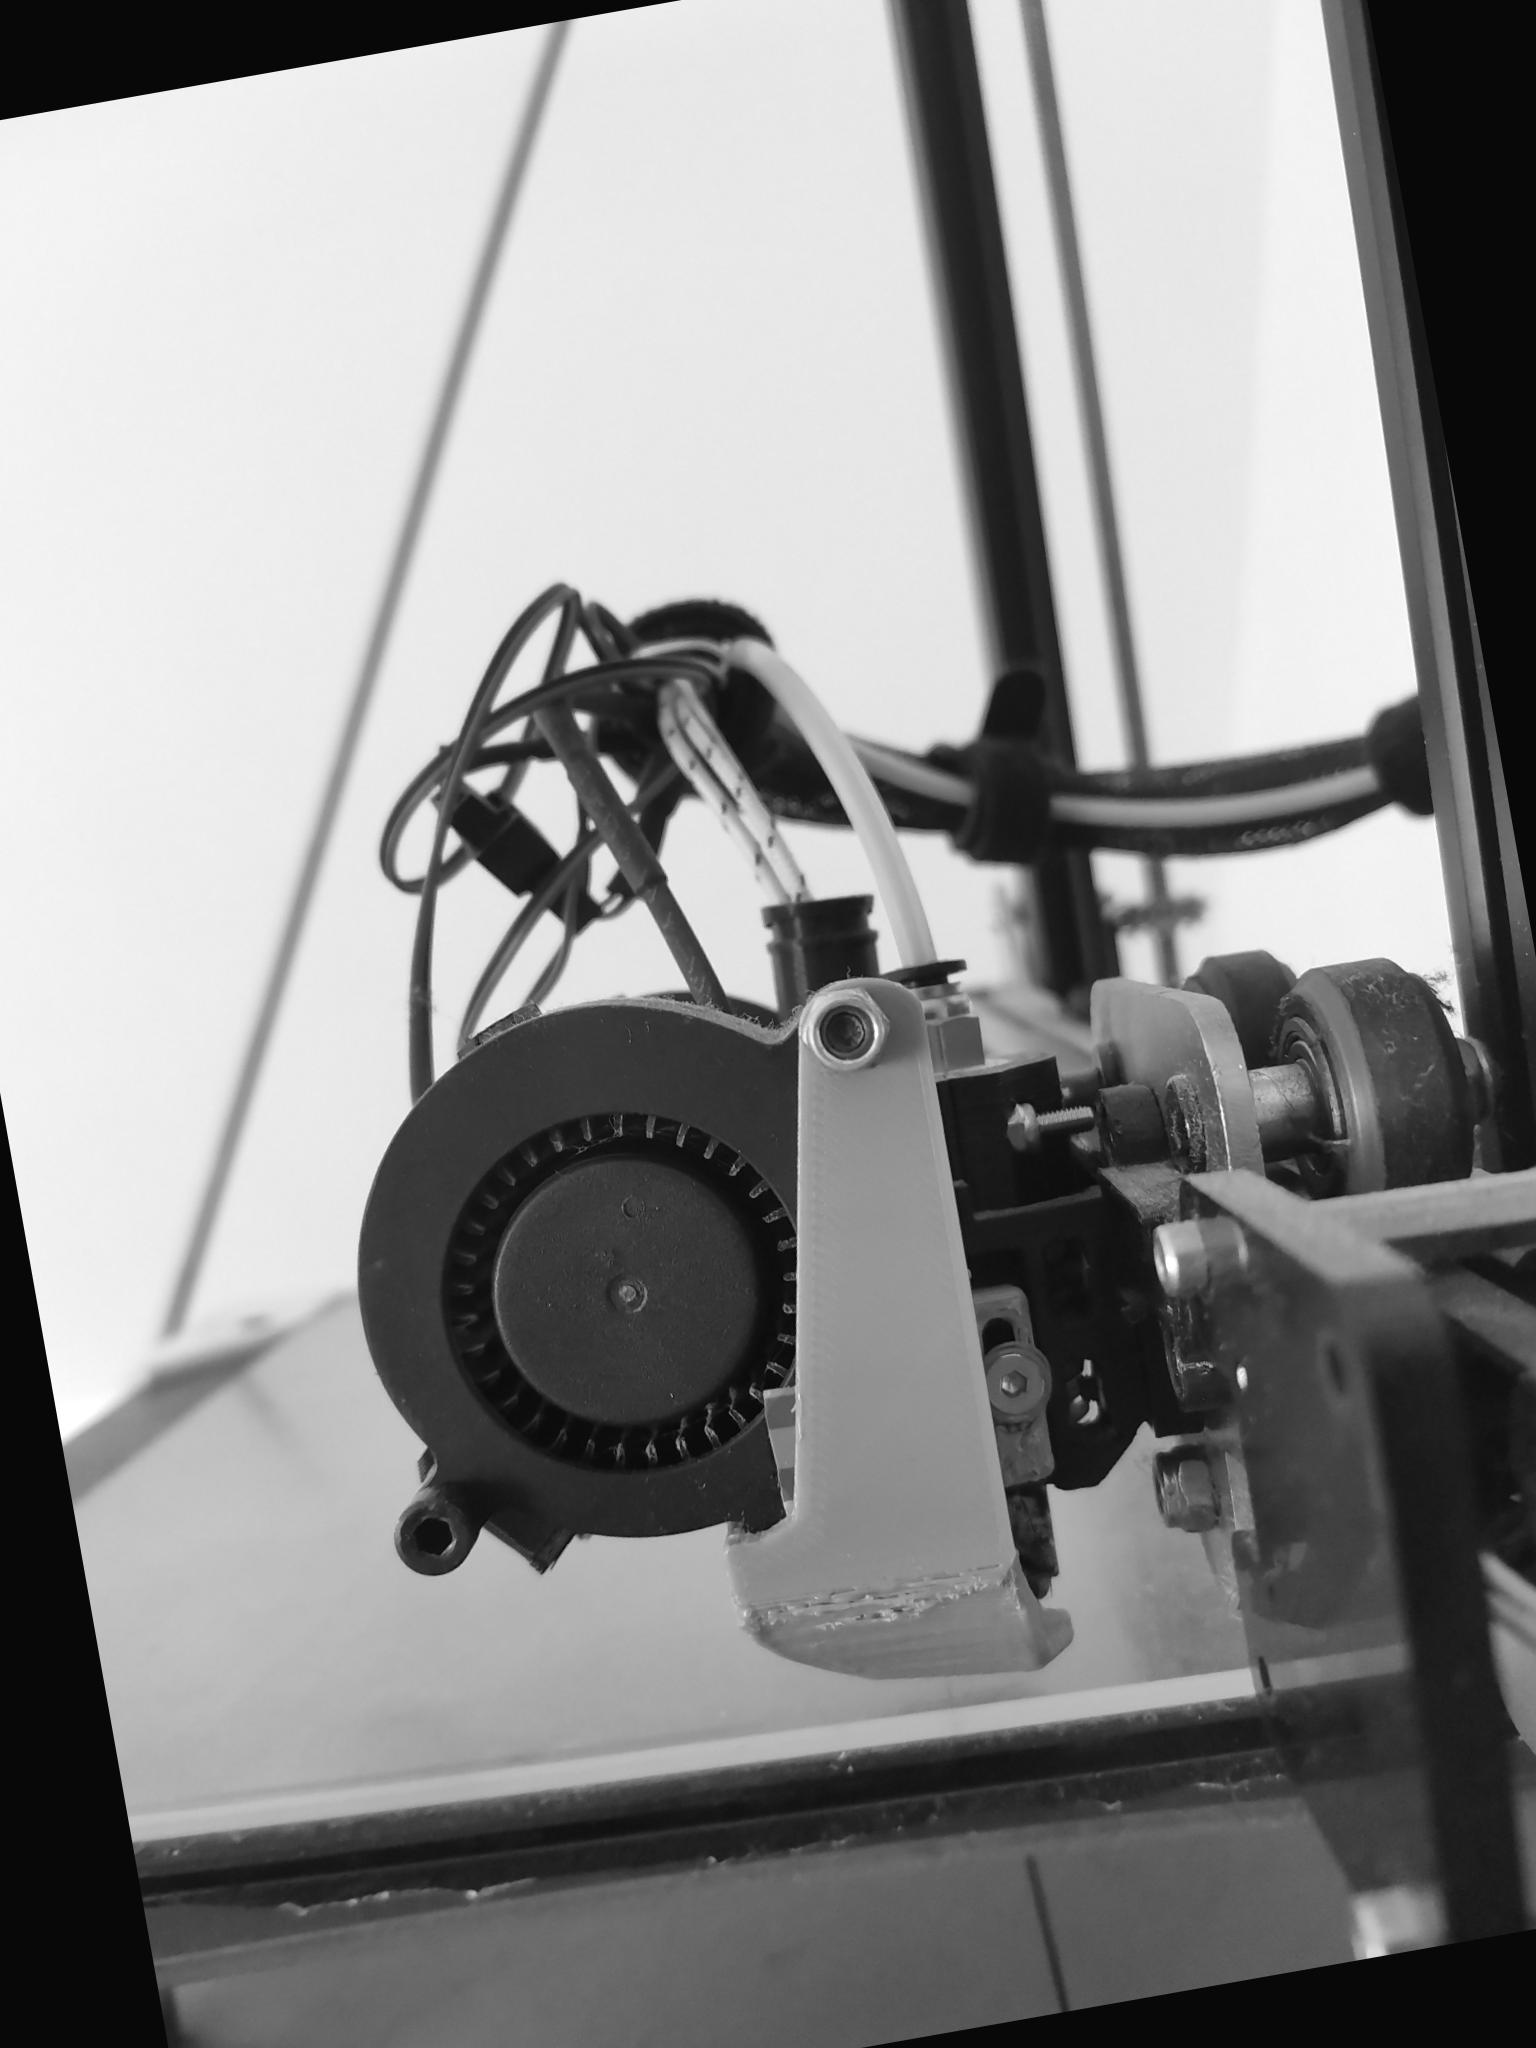hexagonal: (786, 968, 912, 1089)
